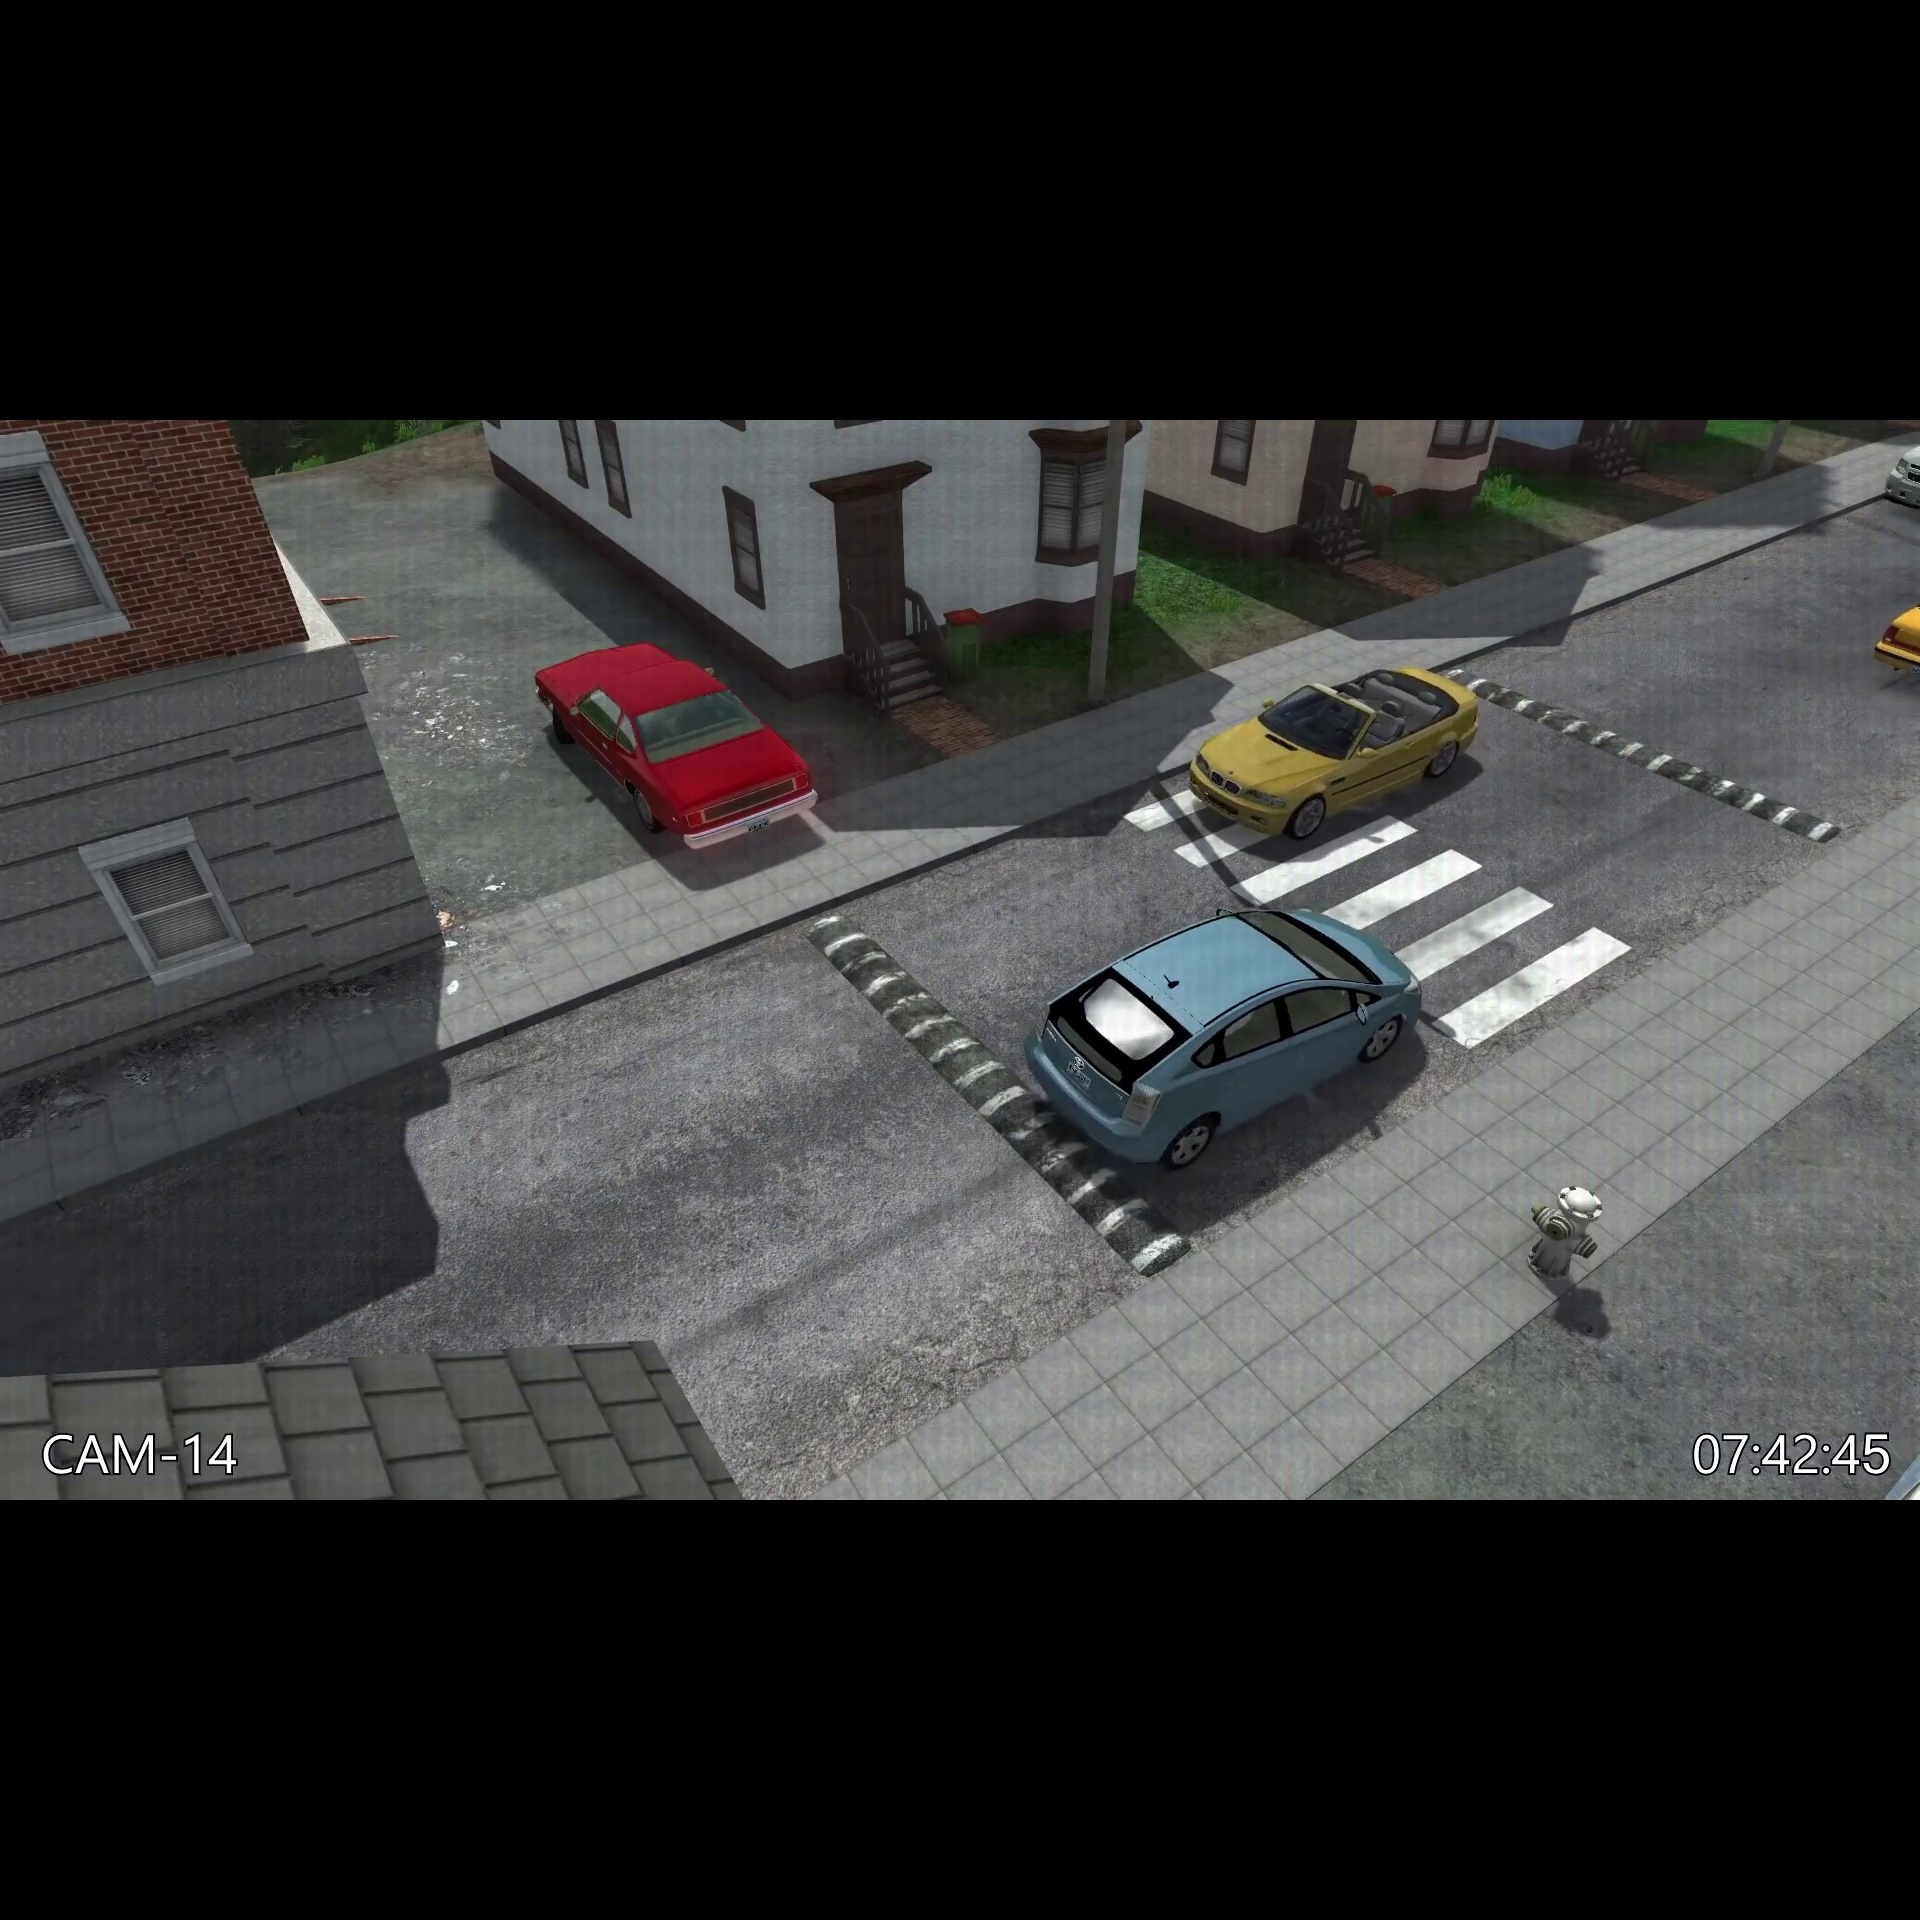vehicle: (1022, 898, 1429, 1182), (527, 633, 823, 860), (1189, 654, 1487, 858)
